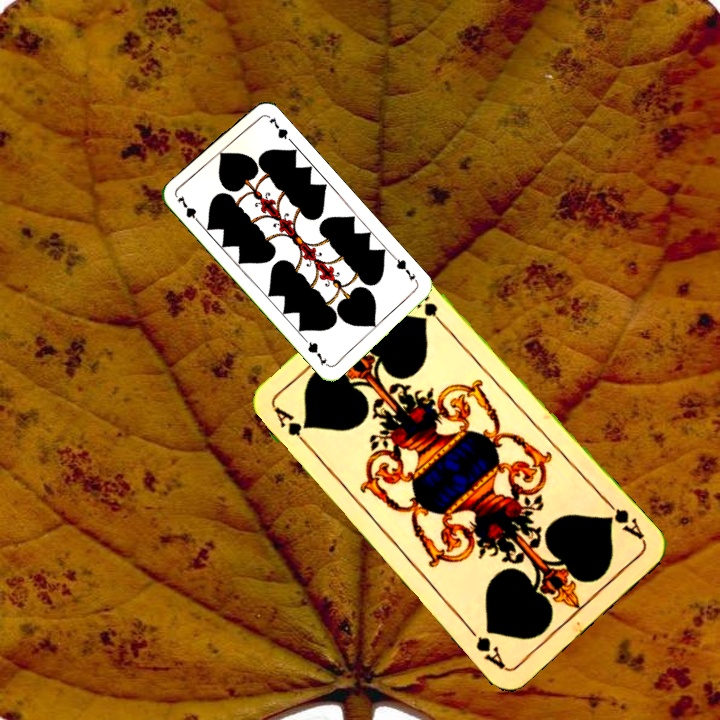G7: (172, 191, 204, 228), (390, 253, 421, 286)
GA: (601, 496, 647, 543), (270, 403, 314, 452)
